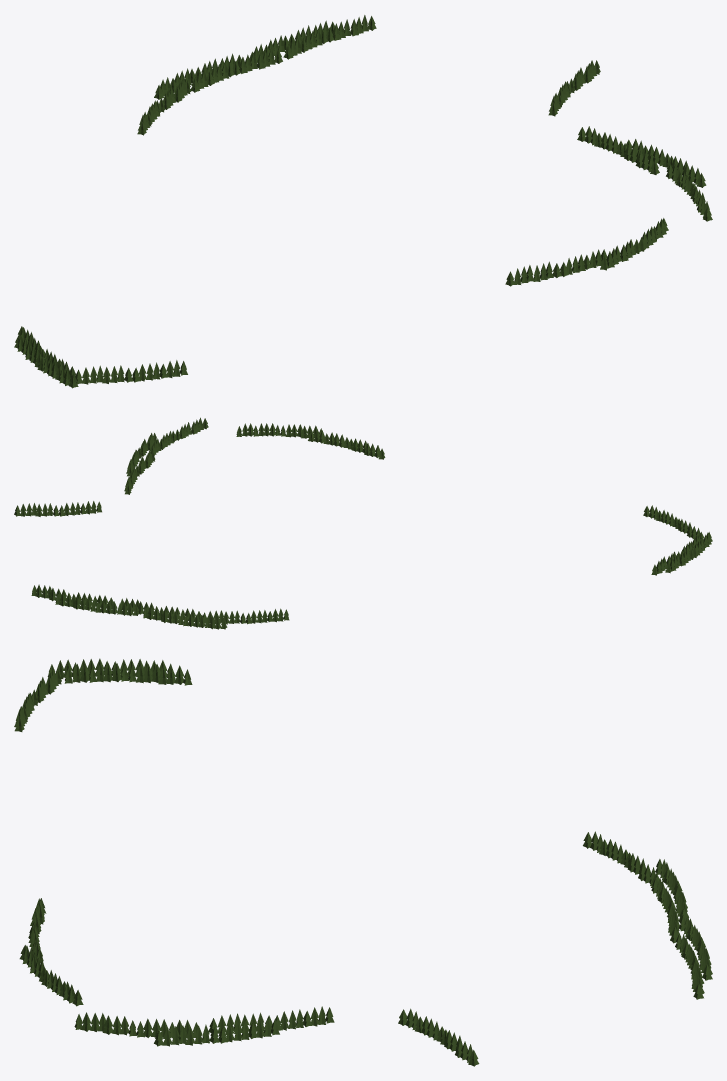
Rendered from Tree.glb.
The picture shows the model from 3 angles, top to bottom: view 1: azimuth 30°, elevation 25°; view 2: azimuth 150°, elevation 25°; view 3: azimuth 270°, elevation 25°; orthographic projection. The views are drawn at different scales.
Parts seen in each view (by area): view 1: Pohon; view 2: Pohon; view 3: Pohon.
Boxes of the visible parts, x1,y1,x2,y2 form: Pohon: [14, 15, 712, 388]; Pohon: [14, 417, 712, 629]; Pohon: [14, 658, 712, 1066].
Size of the model in its own units: 1905 by 41.6 by 1430.
